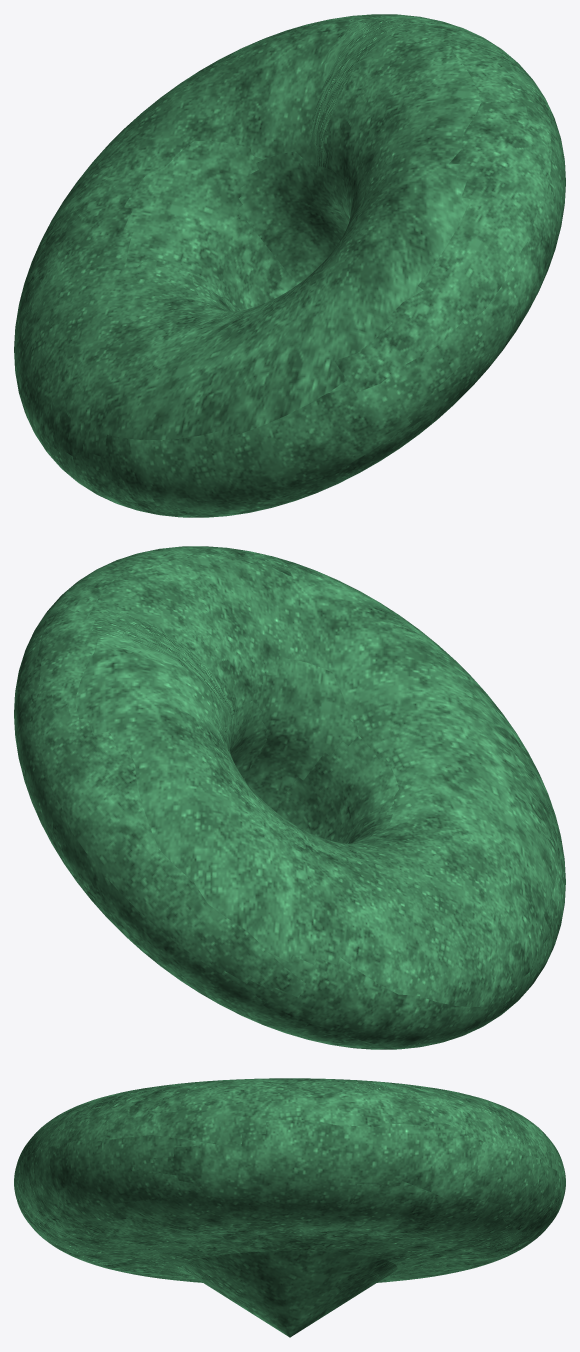
File: TimelessField_Planet.glb
The picture shows the model from 3 angles, top to bottom: view 1: azimuth 30°, elevation 25°; view 2: azimuth 150°, elevation 25°; view 3: azimuth 270°, elevation 25°; orthographic projection. The views are drawn at different scales.
Parts seen in each view (by area): view 1: Generic_Solid; view 2: Generic_Solid; view 3: Generic_Solid.
Boxes of the visible parts, left/top/right/bottom form: Generic_Solid: left=14, top=14, right=565, bottom=517; Generic_Solid: left=14, top=546, right=565, bottom=1049; Generic_Solid: left=14, top=1078, right=565, bottom=1337.
Bounding box in the file's own units: 381 × 291 × 441.
1 material, 1 textured.
